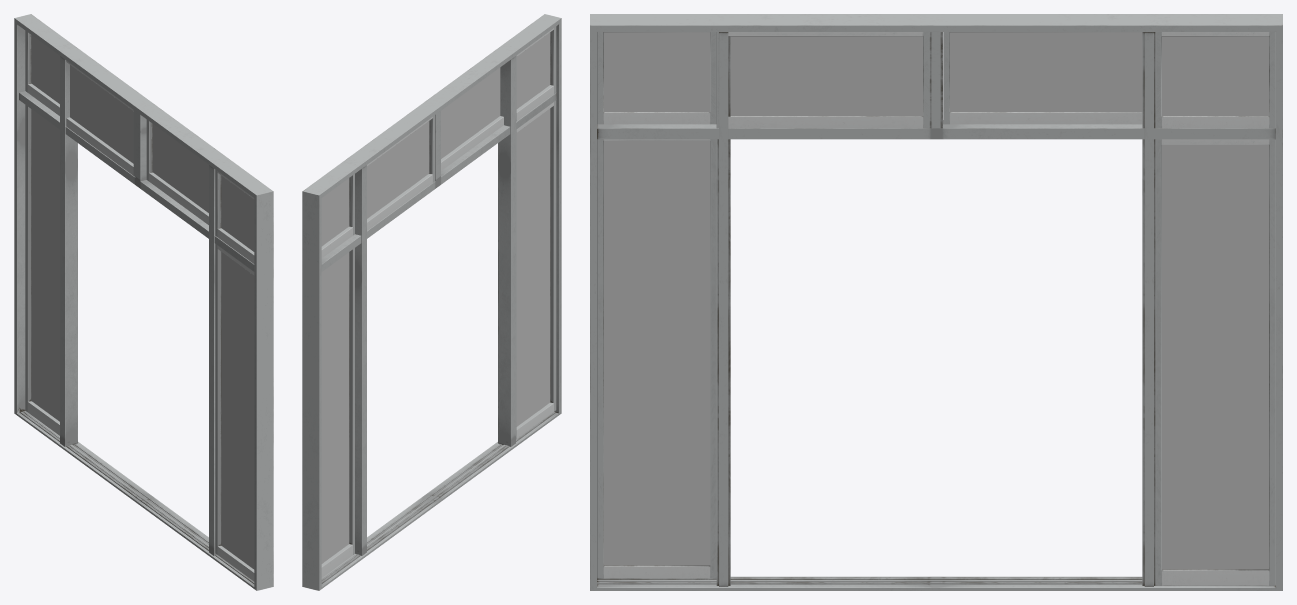
Rendered from SM_Entrance_01.fbx.
The picture shows the model from 3 angles, left to right: view 1: azimuth 30°, elevation 25°; view 2: azimuth 150°, elevation 25°; view 3: azimuth 270°, elevation 25°; orthographic projection. The views are drawn at different scales.
Parts seen in each view (by area): view 1: SM_Entrance_01_LOD0; view 2: SM_Entrance_01_LOD0; view 3: SM_Entrance_01_LOD0.
Boxes of the visible parts, <box> form: SM_Entrance_01_LOD0: <box>14,14,273,590</box>; SM_Entrance_01_LOD0: <box>302,14,561,590</box>; SM_Entrance_01_LOD0: <box>590,14,1282,590</box>.
Bounding box in the file's own units: 12 × 300 × 270.
Materials: 2 (1 with a texture image).
